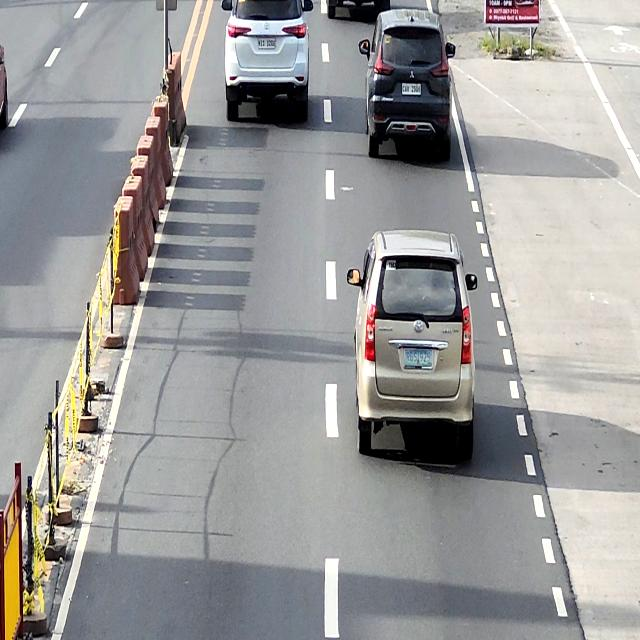Car: (347, 228, 478, 459), (358, 7, 456, 161), (222, 0, 315, 122)
License-Plate: (403, 347, 432, 369), (402, 83, 422, 96), (257, 36, 276, 49)
